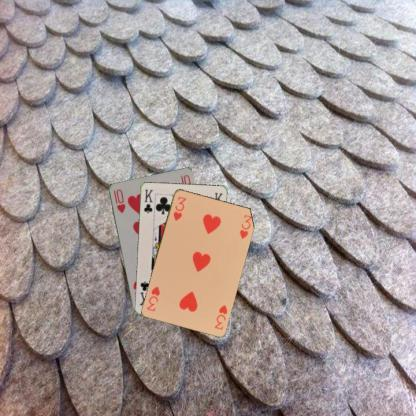10h: (110, 186, 126, 214)
3h: (171, 193, 188, 222), (212, 302, 228, 332)
Kc: (142, 186, 154, 214)
